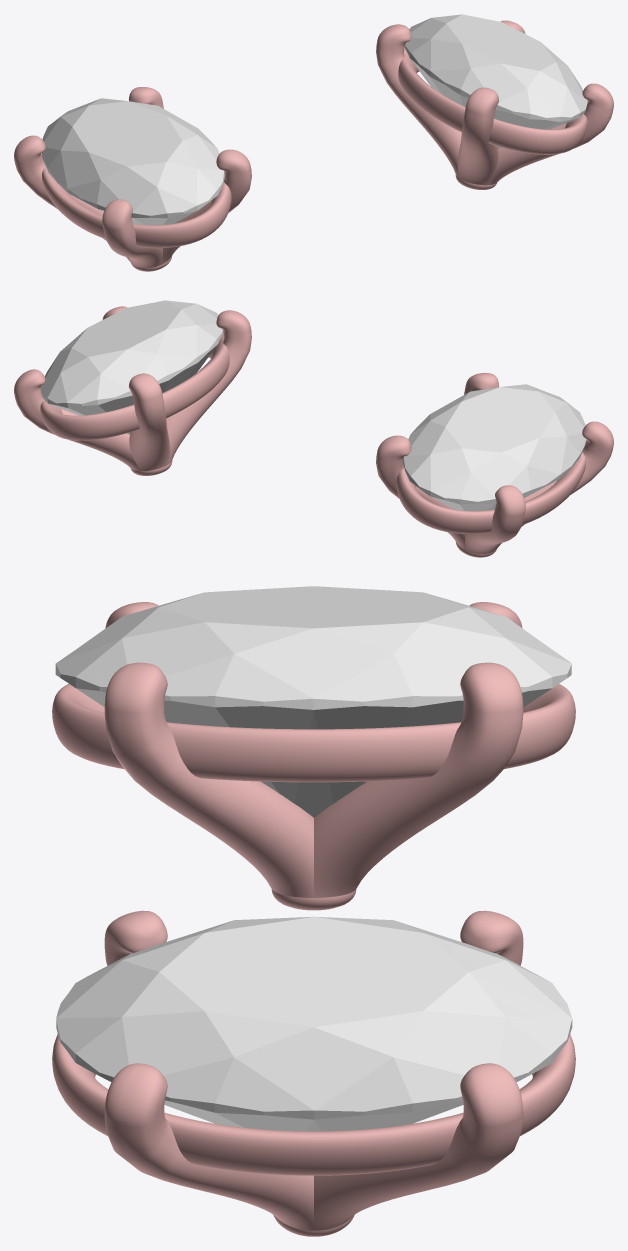
File: ThreeStone.glb
The picture shows the model from 3 angles, top to bottom: view 1: azimuth 30°, elevation 25°; view 2: azimuth 150°, elevation 25°; view 3: azimuth 270°, elevation 25°; orthographic projection. The views are drawn at different scales.
Parts seen in each view (by area): view 1: oval.003; view 2: oval.003; view 3: oval.003.
Part boxes in pixels (bbox=[...]): oval.003: bbox=[14, 14, 613, 271]; oval.003: bbox=[14, 300, 613, 557]; oval.003: bbox=[52, 586, 575, 1236].
Size of the model in its own units: 11.73 by 3.24 by 5.23.
